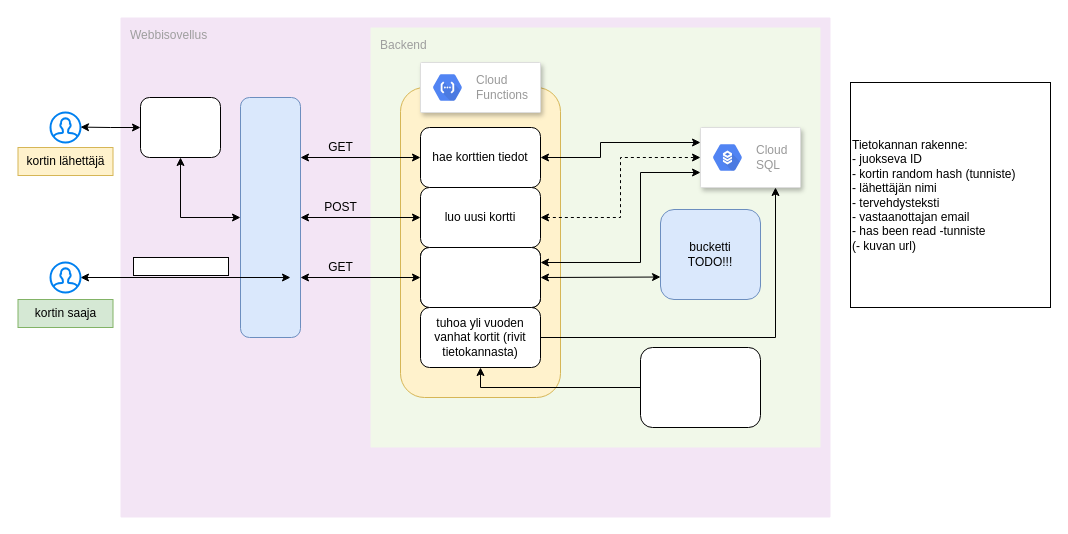
Image size: 1068x534. Some labels were removed from this diagram. The centre of each missing label's shape, as x and y in pixels:
"API Gateway" goes at (x=270, y=217).
"Cloud Scheduler (aja kerran viikossa)" goes at (x=700, y=387).
"frontti Docker (Cloud Run)" goes at (x=180, y=127).
"lue kortti & merkitse luetuksi" goes at (x=480, y=277).
"url" goes at (x=180, y=266).
